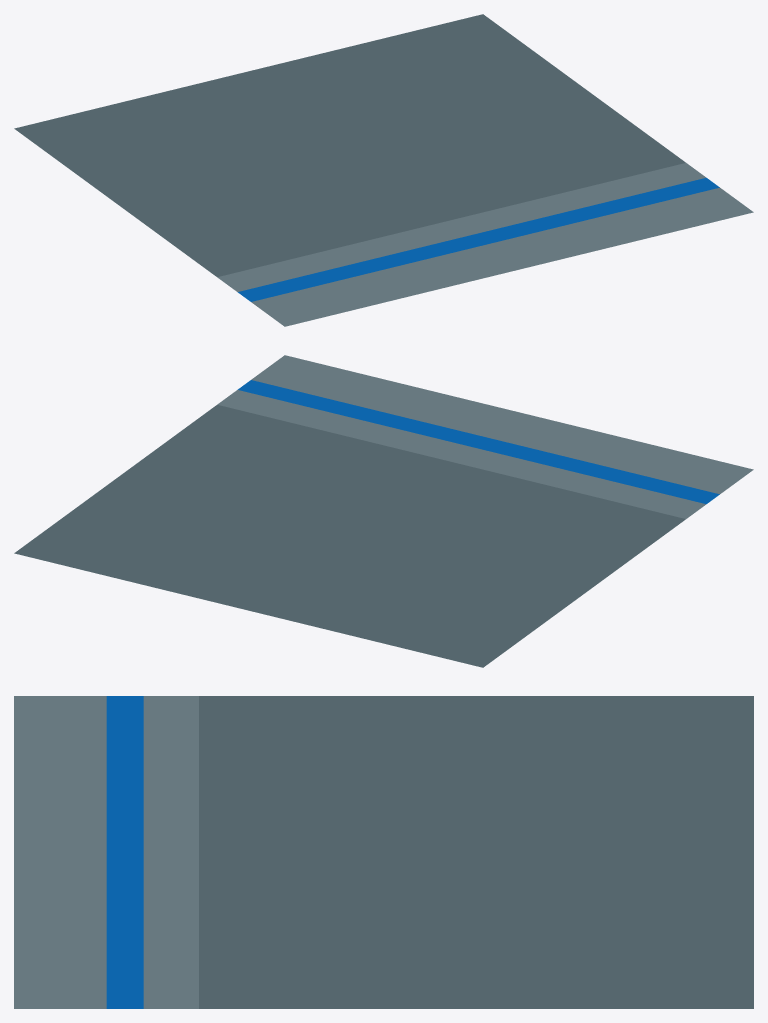
The model's file is Ceiling_type_C_037.fbx.
3 views of the same model, one above another, from view 1: azimuth 30°, elevation 25°; view 2: azimuth 150°, elevation 25°; view 3: azimuth 270°, elevation 25° (orthographic). The views are drawn at different scales.
Parts seen in each view (by area): view 1: Ceiling_type_C_037; view 2: Ceiling_type_C_037; view 3: Ceiling_type_C_037.
Part boxes in pixels (box(x1,y1,x2,y2)): Ceiling_type_C_037: box(14, 14, 753, 326); Ceiling_type_C_037: box(14, 355, 753, 667); Ceiling_type_C_037: box(14, 696, 753, 1008).
Bounding box in the file's own units: 400 × 400 × 1.2.
